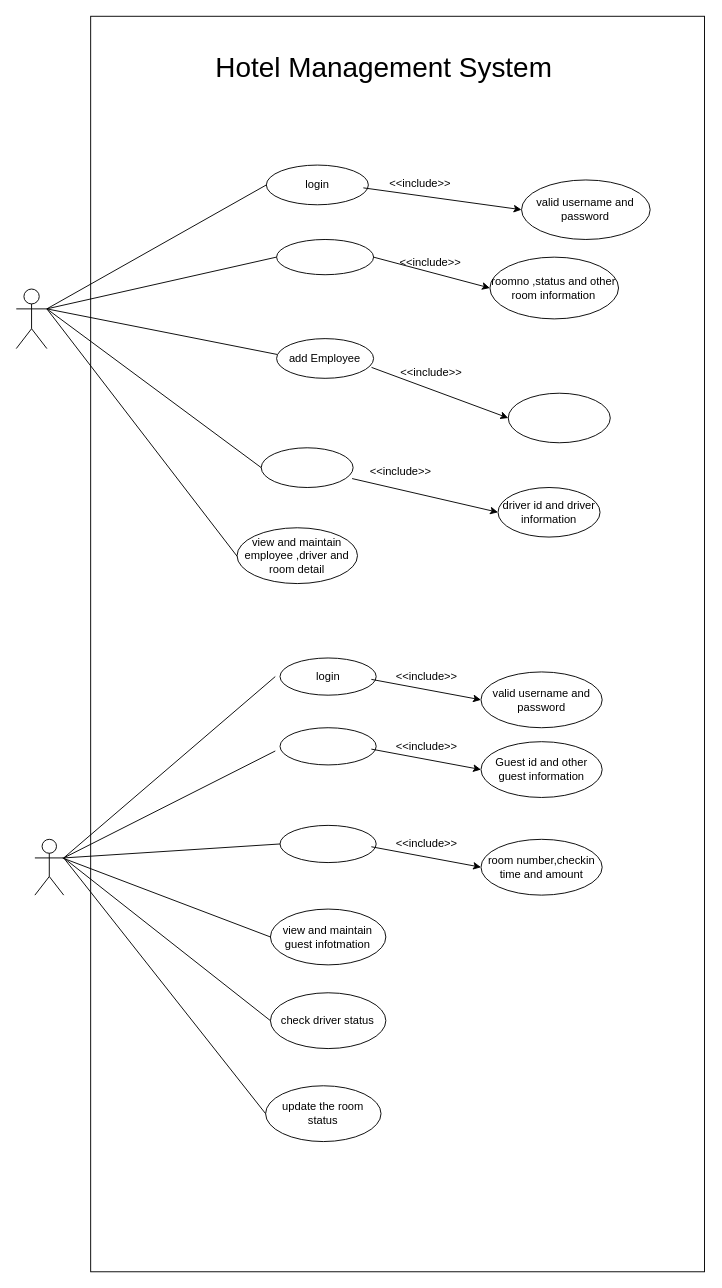
The diagram is 722 pixels wide and 1288 high, and some of its shapes have lost their labels. Here are the shapes that lost their labels. From the top down, the centre of each, then its label:
the point at 325,257: add Room
the point at 31,318: Admin
the point at 558,417: Employee id and employee details
the point at 306,467: add driver
the point at 327,746: Add Guest
the point at 327,843: Room allocation
the point at 49,866: Staff
